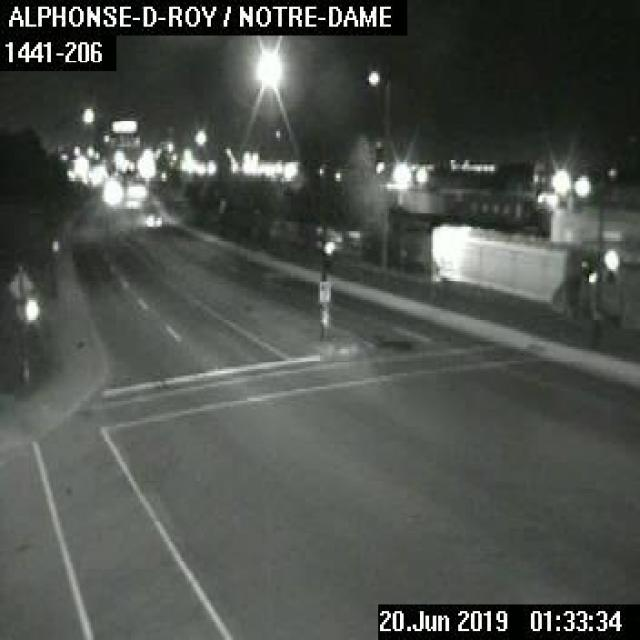vehicle: (144, 211, 162, 230)
